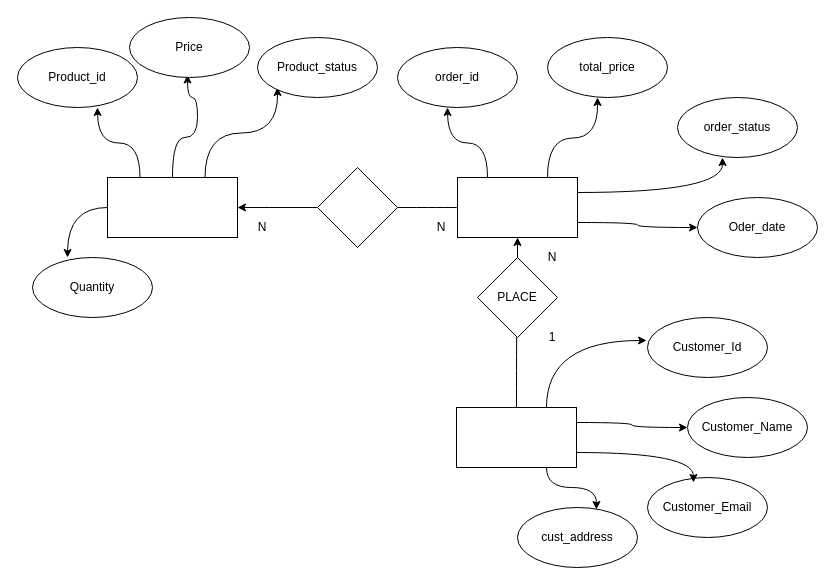
This 835x585 diagram has some shape labels left out. The centre of each missing label's shape, as x and y in pixels:
"CONTAIN" goes at (357,207).
"CUSTOMER" goes at (516,437).
"ORDER" goes at (517,207).
"PRODUCT" goes at (172,207).
